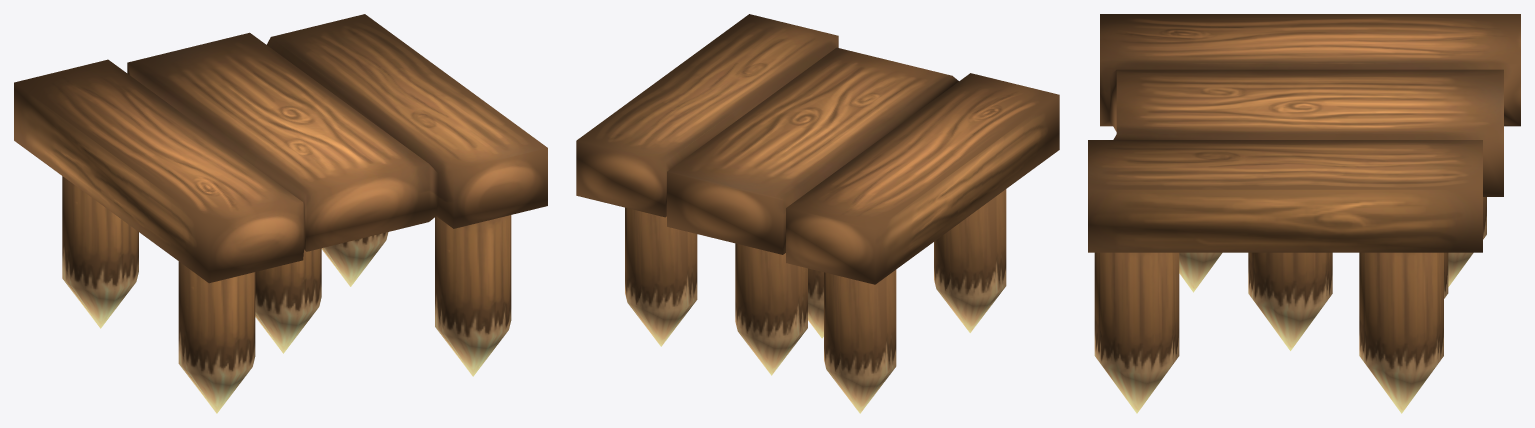
The model's file is R4YL_PROP_platform_spikes.FBX.
3 views of the same model, side by side, from view 1: azimuth 30°, elevation 25°; view 2: azimuth 150°, elevation 25°; view 3: azimuth 270°, elevation 25° (orthographic). The views are drawn at different scales.
Visible parts, largest first — view 1: R4YL_PROP_platform_spikes; view 2: R4YL_PROP_platform_spikes; view 3: R4YL_PROP_platform_spikes.
Boxes of the visible parts, bbox=[...] form: R4YL_PROP_platform_spikes: bbox=[14, 14, 547, 413]; R4YL_PROP_platform_spikes: bbox=[576, 14, 1059, 413]; R4YL_PROP_platform_spikes: bbox=[1088, 14, 1520, 413].
Bounding box in the file's own units: 59.06 × 39.44 × 61.47.
